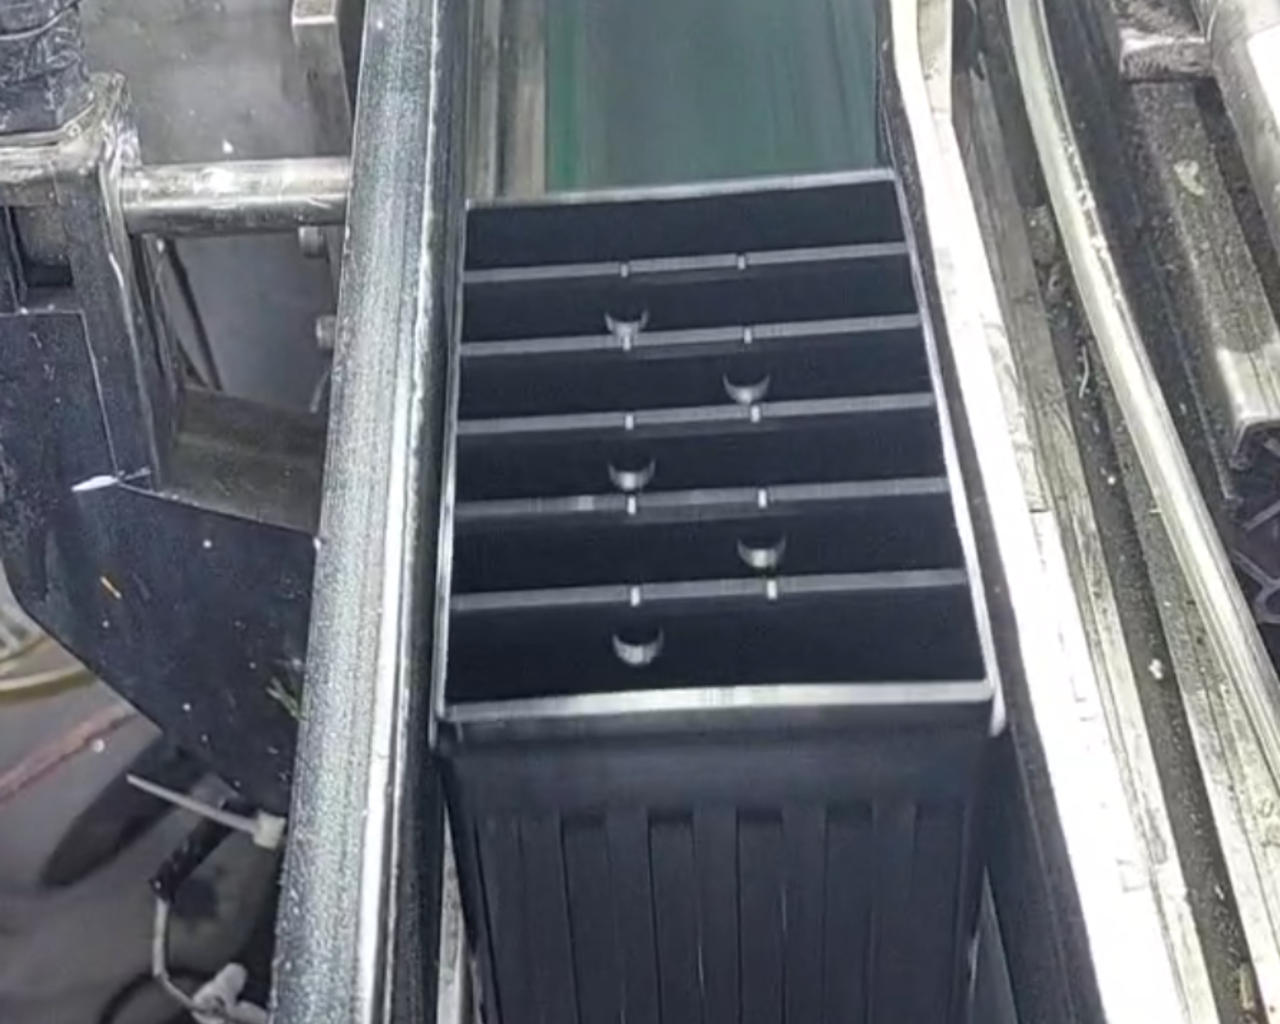box: (409, 158, 1020, 764)
round: (592, 425, 673, 499), (594, 610, 681, 673), (727, 513, 804, 574), (709, 347, 779, 412), (591, 284, 660, 342)
